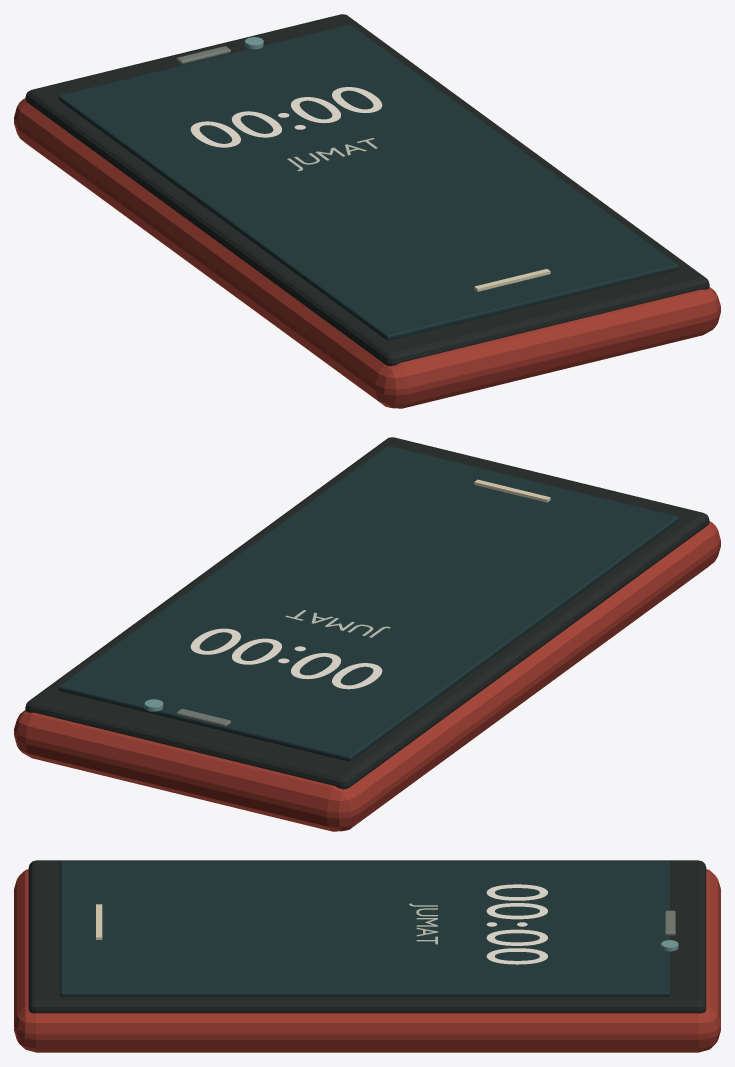
The model's file is smartphone_akbar.glb.
3 views of the same model, one above another, from view 1: azimuth 30°, elevation 25°; view 2: azimuth 150°, elevation 25°; view 3: azimuth 270°, elevation 25° (orthographic). The views are drawn at different scales.
Visible parts, largest first — view 1: smartphone_akbar; view 2: smartphone_akbar; view 3: smartphone_akbar.
Part boxes in pixels (left/top/right/bottom): smartphone_akbar: left=14, top=14, right=720, bottom=408; smartphone_akbar: left=14, top=437, right=720, bottom=831; smartphone_akbar: left=14, top=860, right=720, bottom=1052.
Size of the model in its own units: 0.0776 by 0.0144 by 0.15.
